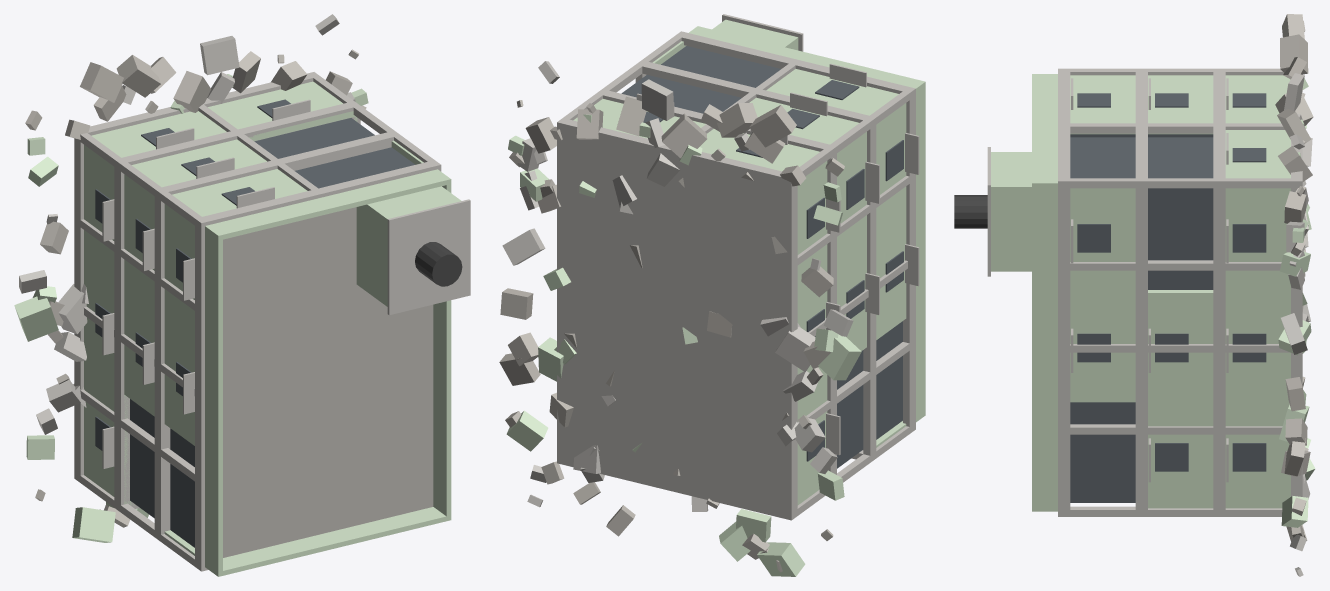
File: damaged_infill_3f.glb
The picture shows the model from 3 angles, left to right: view 1: azimuth 30°, elevation 25°; view 2: azimuth 150°, elevation 25°; view 3: azimuth 270°, elevation 25°; orthographic projection. The views are drawn at different scales.
Visible parts, largest first — view 1: roof, green, concrete, glass, rubble, tank; view 2: concrete, green, rubble, glass; view 3: green, concrete, glass, rubble, tank.
Part boxes in pixels (<box>): roof: <box>223,207,433,557</box>; green: <box>14,74,461,576</box>; concrete: <box>19,14,470,571</box>; glass: <box>95,99,415,547</box>; rubble: <box>25,49,366,527</box>; tank: <box>415,242,462,286</box>; concrete: <box>502,14,919,520</box>; green: <box>506,19,925,576</box>; rubble: <box>499,96,844,572</box>; glass: <box>621,46,903,468</box>; green: <box>991,74,1315,527</box>; concrete: <box>987,68,1312,576</box>; glass: <box>1070,93,1266,502</box>; rubble: <box>1275,14,1313,541</box>; tank: <box>954,195,987,228</box>.
Bounding box in the file's own units: 15.51 × 19.75 × 13.95.
